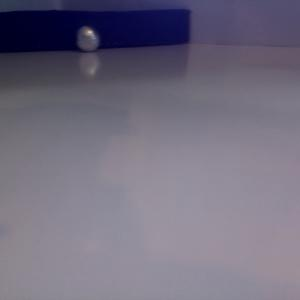zone: (1, 9, 190, 52)
